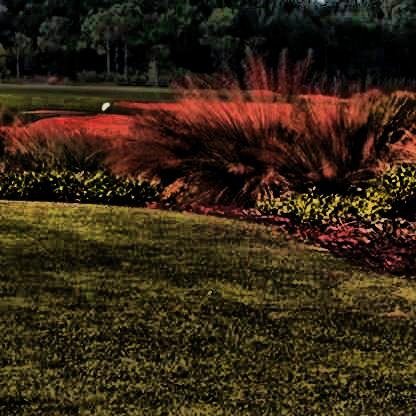golfball: (98, 98, 109, 113)
